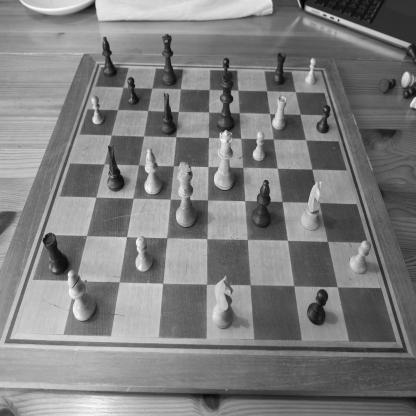black-bishop: (252, 180, 272, 228), (102, 36, 117, 77)
black-king: (216, 70, 235, 131)
black-knight: (107, 144, 125, 192), (161, 92, 176, 136)
black-pawn: (307, 289, 329, 326), (316, 104, 331, 134), (127, 76, 139, 106), (220, 57, 230, 84), (402, 82, 416, 100)
black-queen: (161, 33, 177, 86)
black-rook: (42, 232, 68, 276), (272, 52, 286, 86)
white-bishop: (67, 269, 97, 322), (144, 147, 162, 196)
white-king: (176, 162, 198, 228)
white-knight: (212, 275, 234, 330), (300, 181, 322, 231)
white-pawn: (349, 240, 371, 275), (135, 235, 153, 273), (252, 131, 266, 162), (91, 95, 105, 125), (305, 57, 317, 85)
white-queen: (213, 129, 235, 191)
white-rook: (272, 94, 287, 131)
